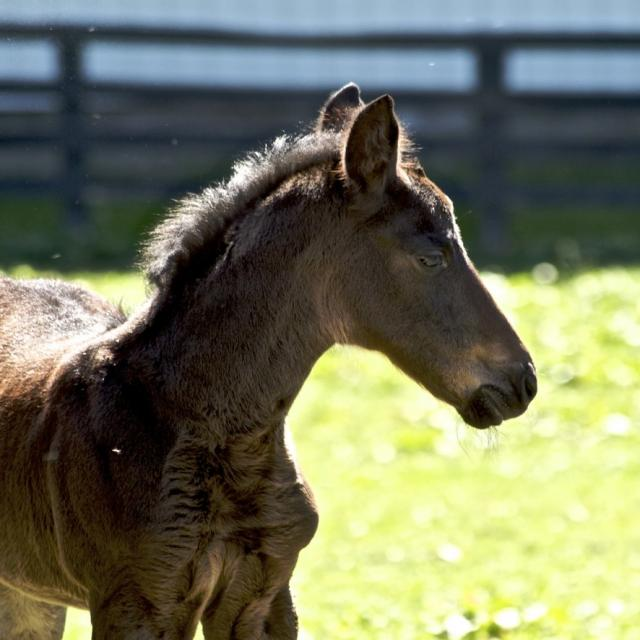Horse: (0, 78, 538, 639)
